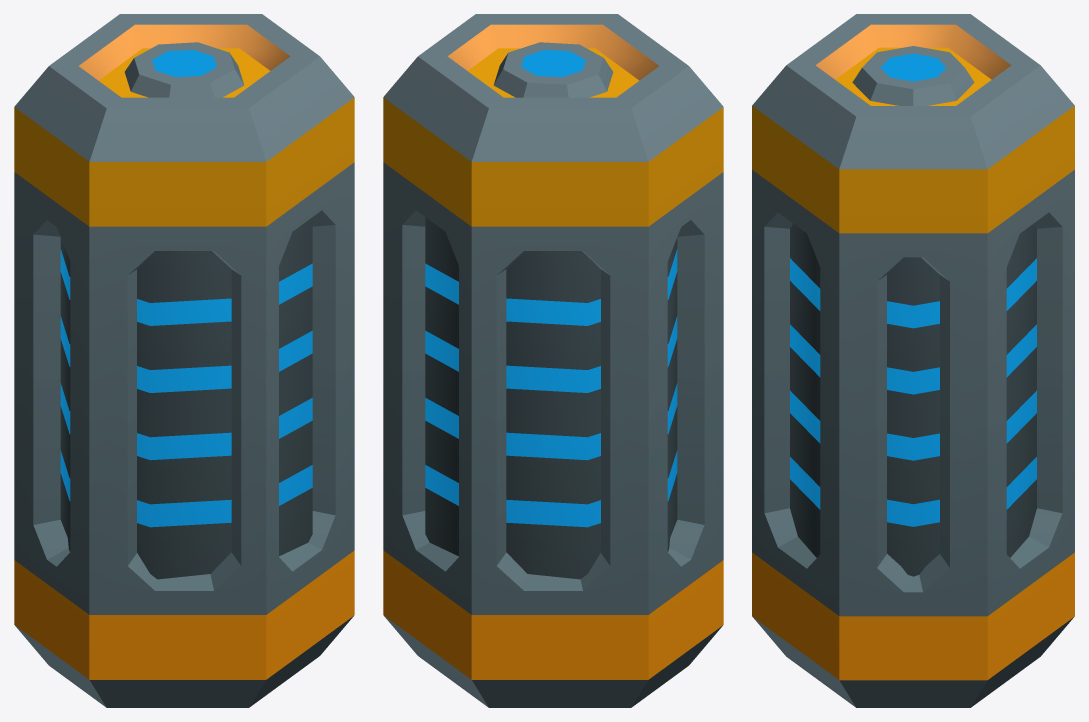
File: Battery_014.glb
The picture shows the model from 3 angles, left to right: view 1: azimuth 30°, elevation 25°; view 2: azimuth 150°, elevation 25°; view 3: azimuth 270°, elevation 25°; orthographic projection.
Visible parts, largest first — view 1: Battery_014; view 2: Battery_014; view 3: Battery_014.
Boxes of the visible parts, left/top/right/bottom form: Battery_014: left=14, top=14, right=354, bottom=707; Battery_014: left=383, top=14, right=723, bottom=707; Battery_014: left=752, top=14, right=1074, bottom=707.
Size of the model in its own units: 0.36 by 0.7775 by 0.3847.
Materials: 2 (2 with a texture image).
